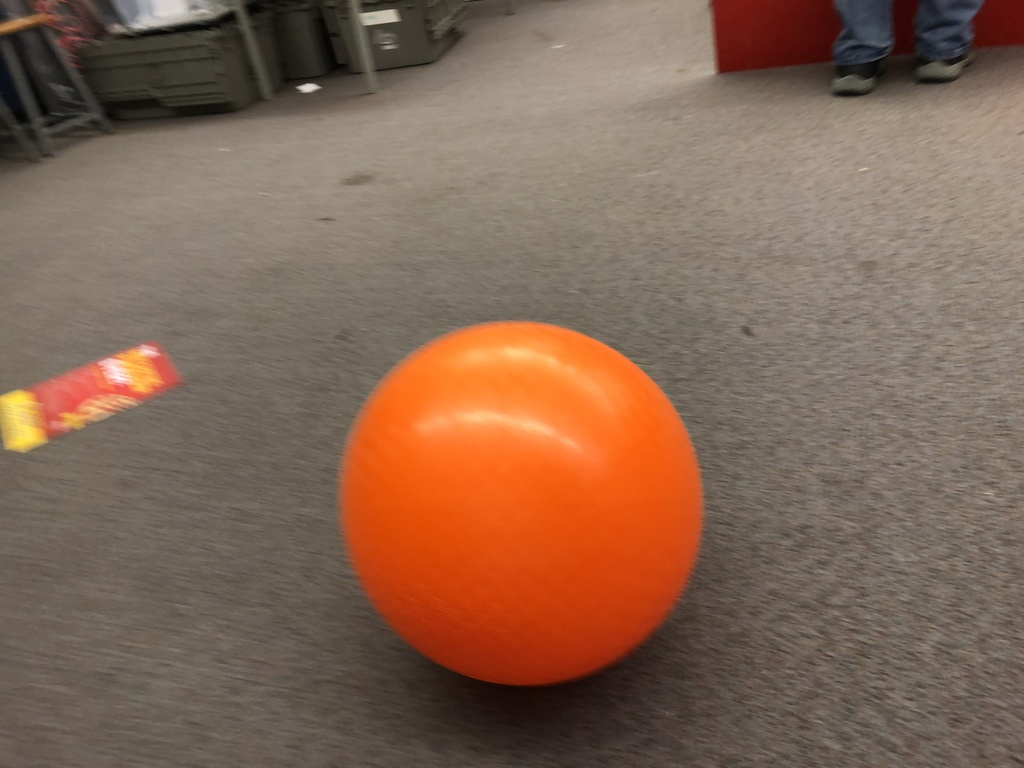cargo: (332, 308, 720, 694)
